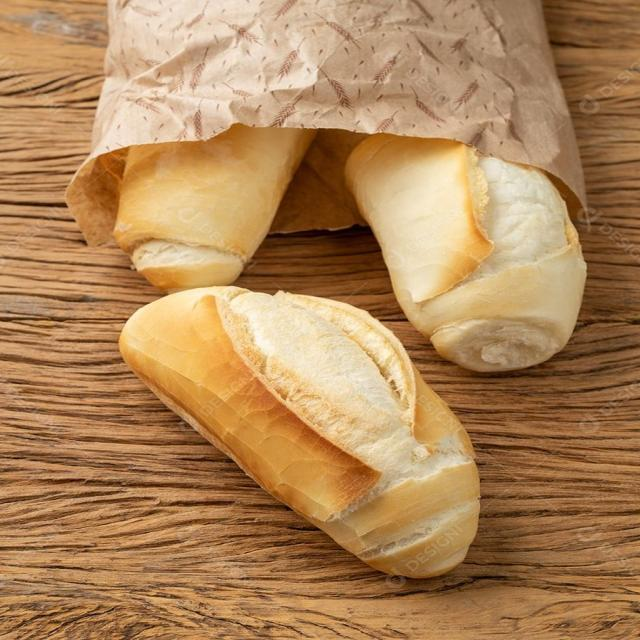bread: (120, 287, 479, 577), (347, 134, 586, 371), (114, 124, 314, 290)
